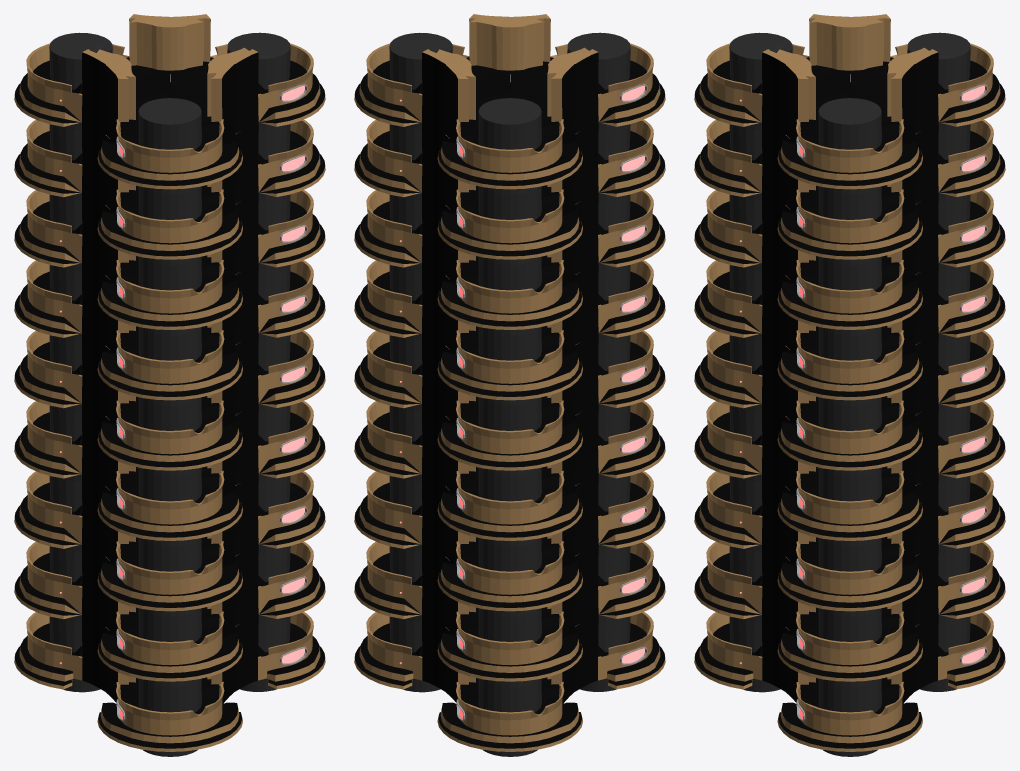
File: doctor_octopus_arms_model_free.glb
3 views of the same model, side by side, from view 1: azimuth 30°, elevation 25°; view 2: azimuth 150°, elevation 25°; view 3: azimuth 270°, elevation 25° (orthographic).
Parts seen in each view (by area): view 1: ArmBR_0; view 2: ArmBR_0; view 3: ArmBR_0.
Boxes of the visible parts, x1,y1,x2,y2 form: ArmBR_0: (14, 14, 325, 756); ArmBR_0: (354, 14, 665, 756); ArmBR_0: (694, 14, 1005, 756).
Bounding box in the file's own units: 3.69 × 9.16 × 3.96.
